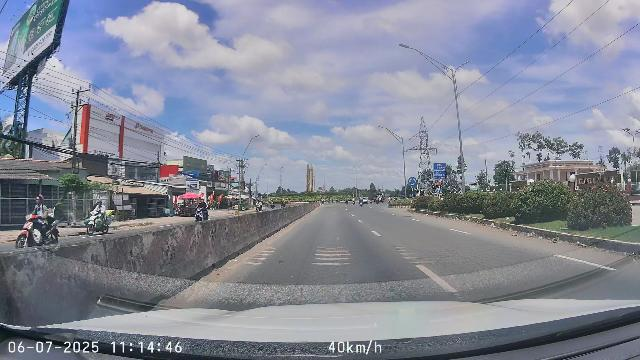303-noi-giao-nhau-chay-theo-vong-xuyen: (408, 177, 417, 186)
